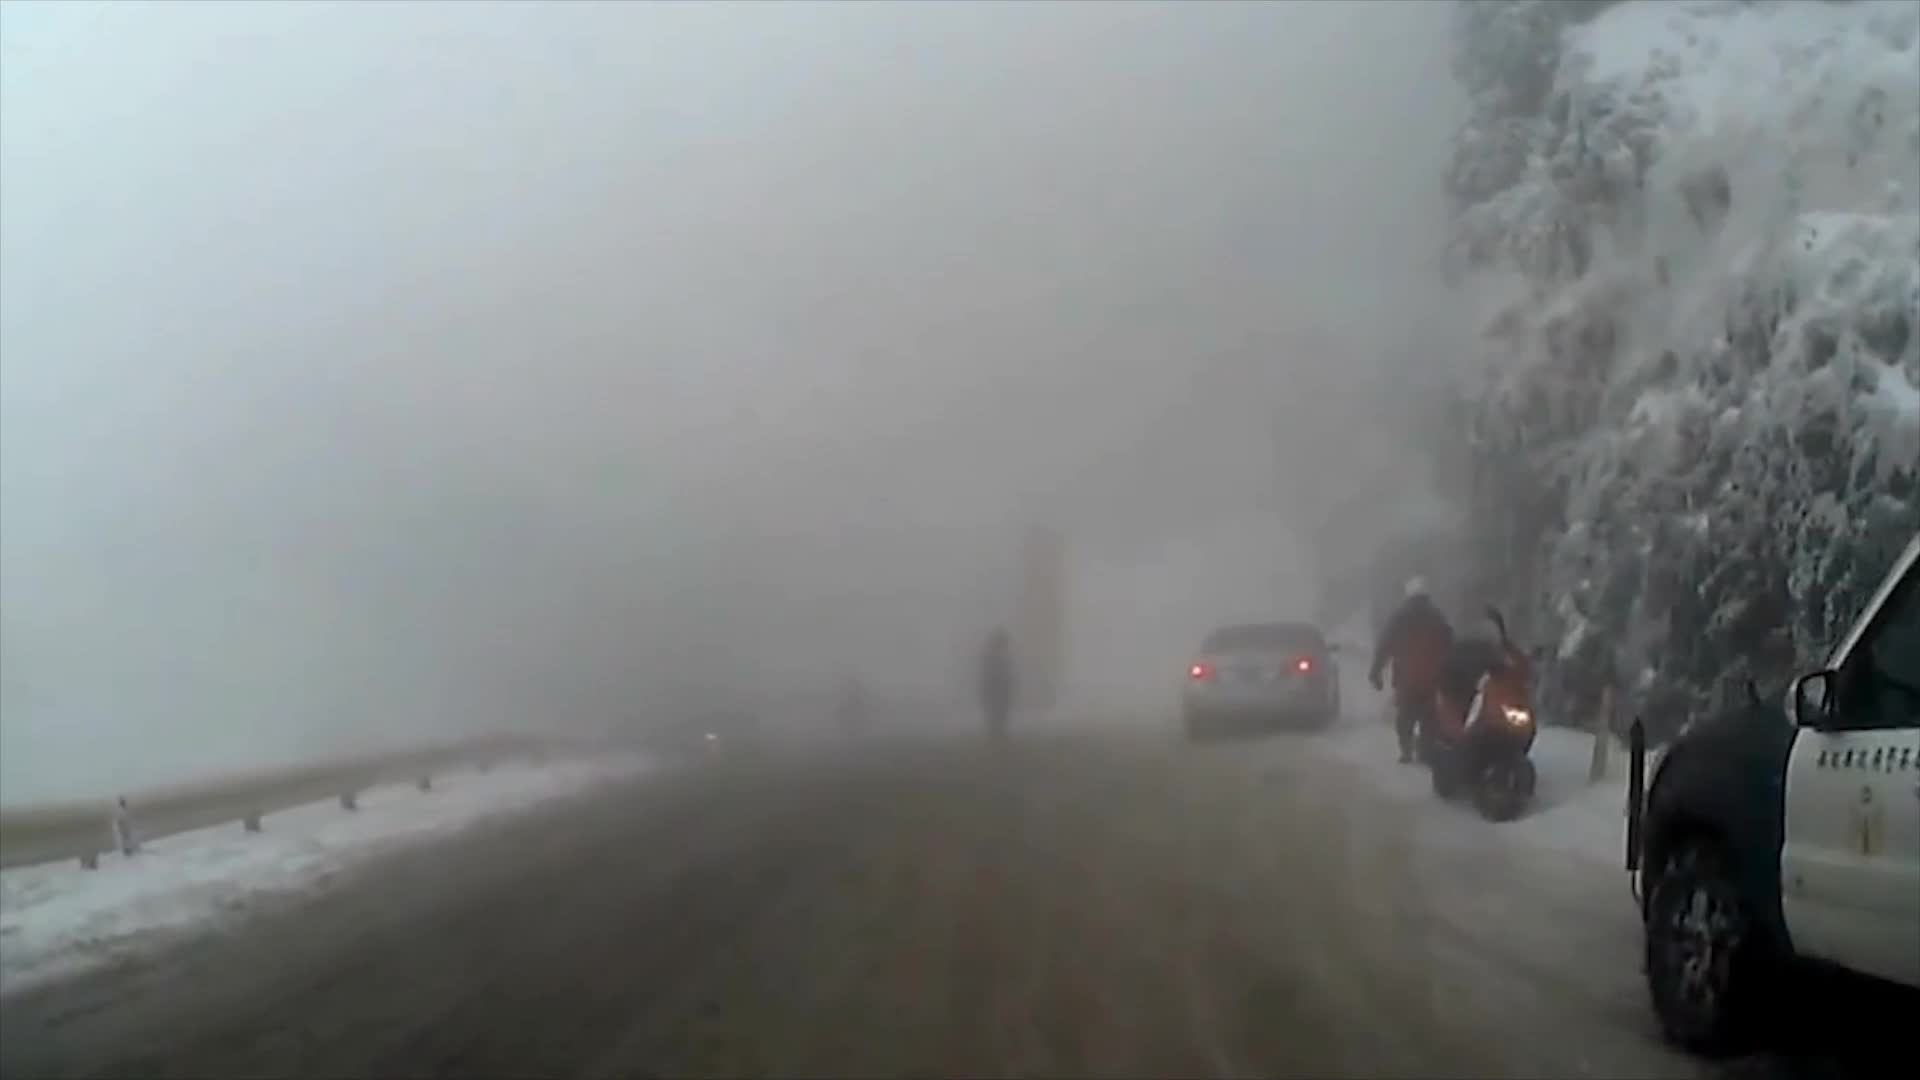pedestrian: (1372, 571, 1470, 771), (978, 633, 1016, 762)
vehicle: (1618, 527, 1917, 1080), (1178, 620, 1341, 745)
